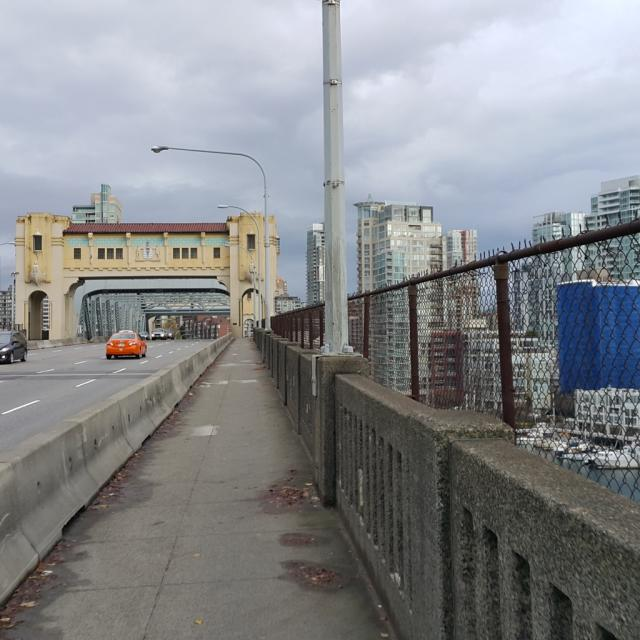car: (106, 330, 145, 358), (150, 328, 164, 339)
